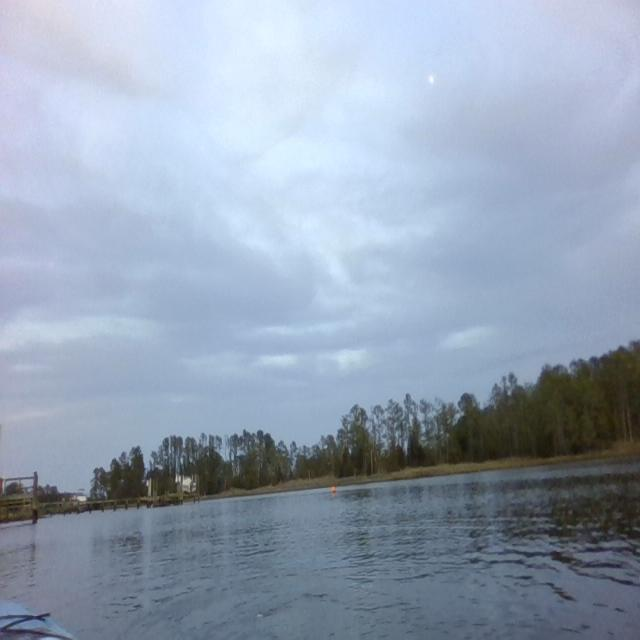Buoy: (330, 483, 338, 495)
